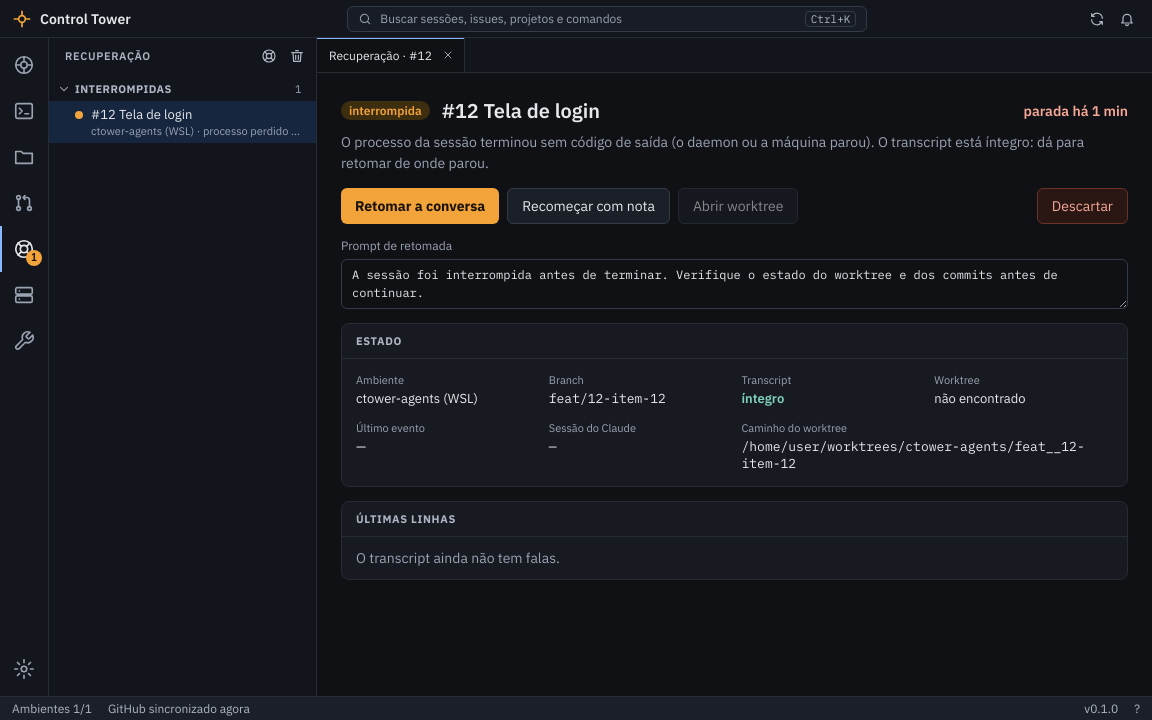
Test: Recuperação: o Descartar do detalhe passa pela mesma confirmação
The width and height of the screenshot is (1152, 720).
Click the button "Descartar": (1082, 206) [1037,188,1128,224]
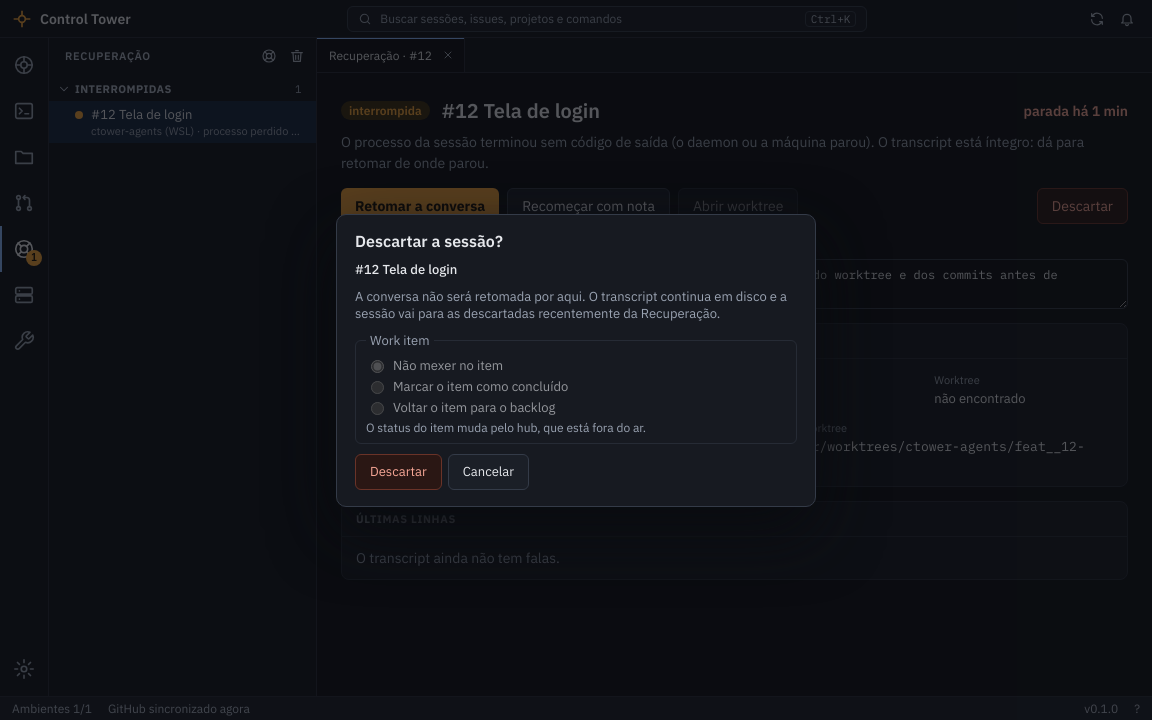
Click the button "Descartar": (398, 472) [355,454,442,490]
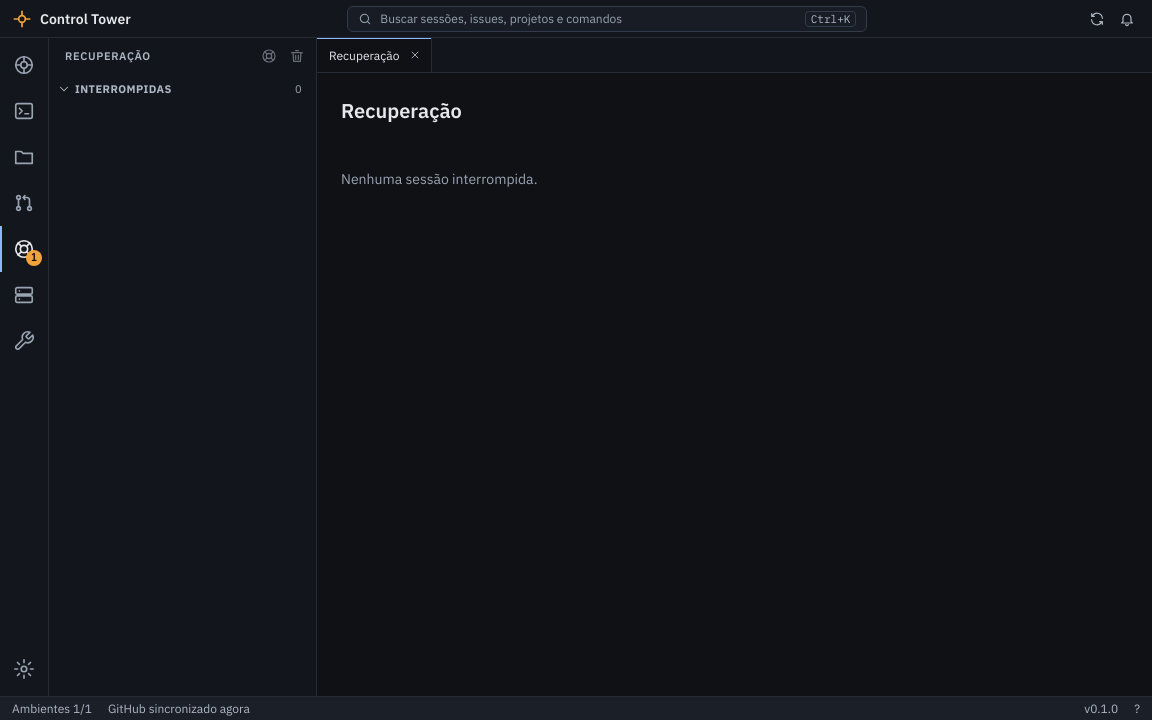
Expected: the text "Nenhuma sessão interrompida." is shown, [341,170,538,188]
